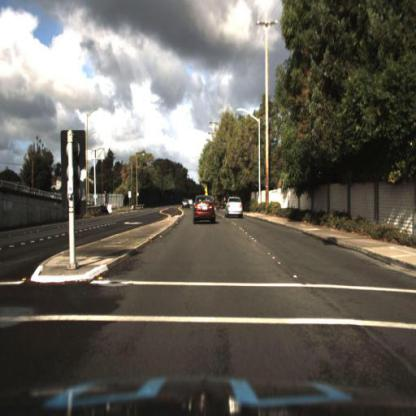car: (191, 192, 220, 226), (226, 196, 246, 220)
